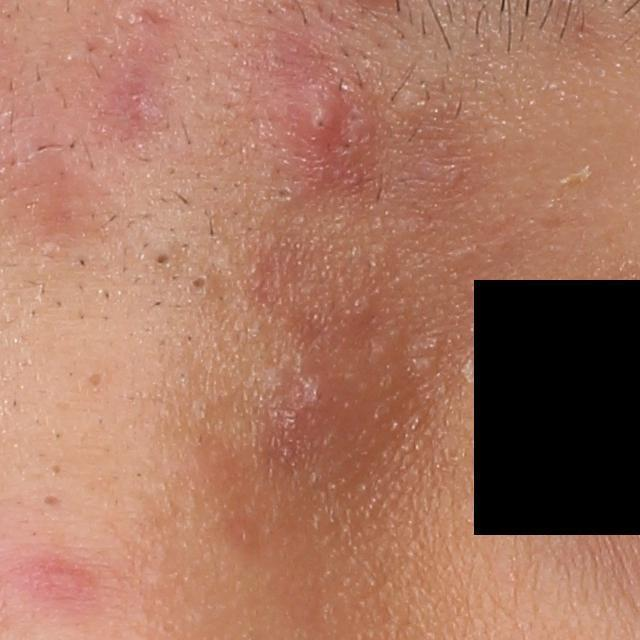comedo: (36, 489, 68, 515), (148, 245, 177, 273), (82, 365, 105, 392), (188, 271, 212, 292), (47, 458, 69, 478)
